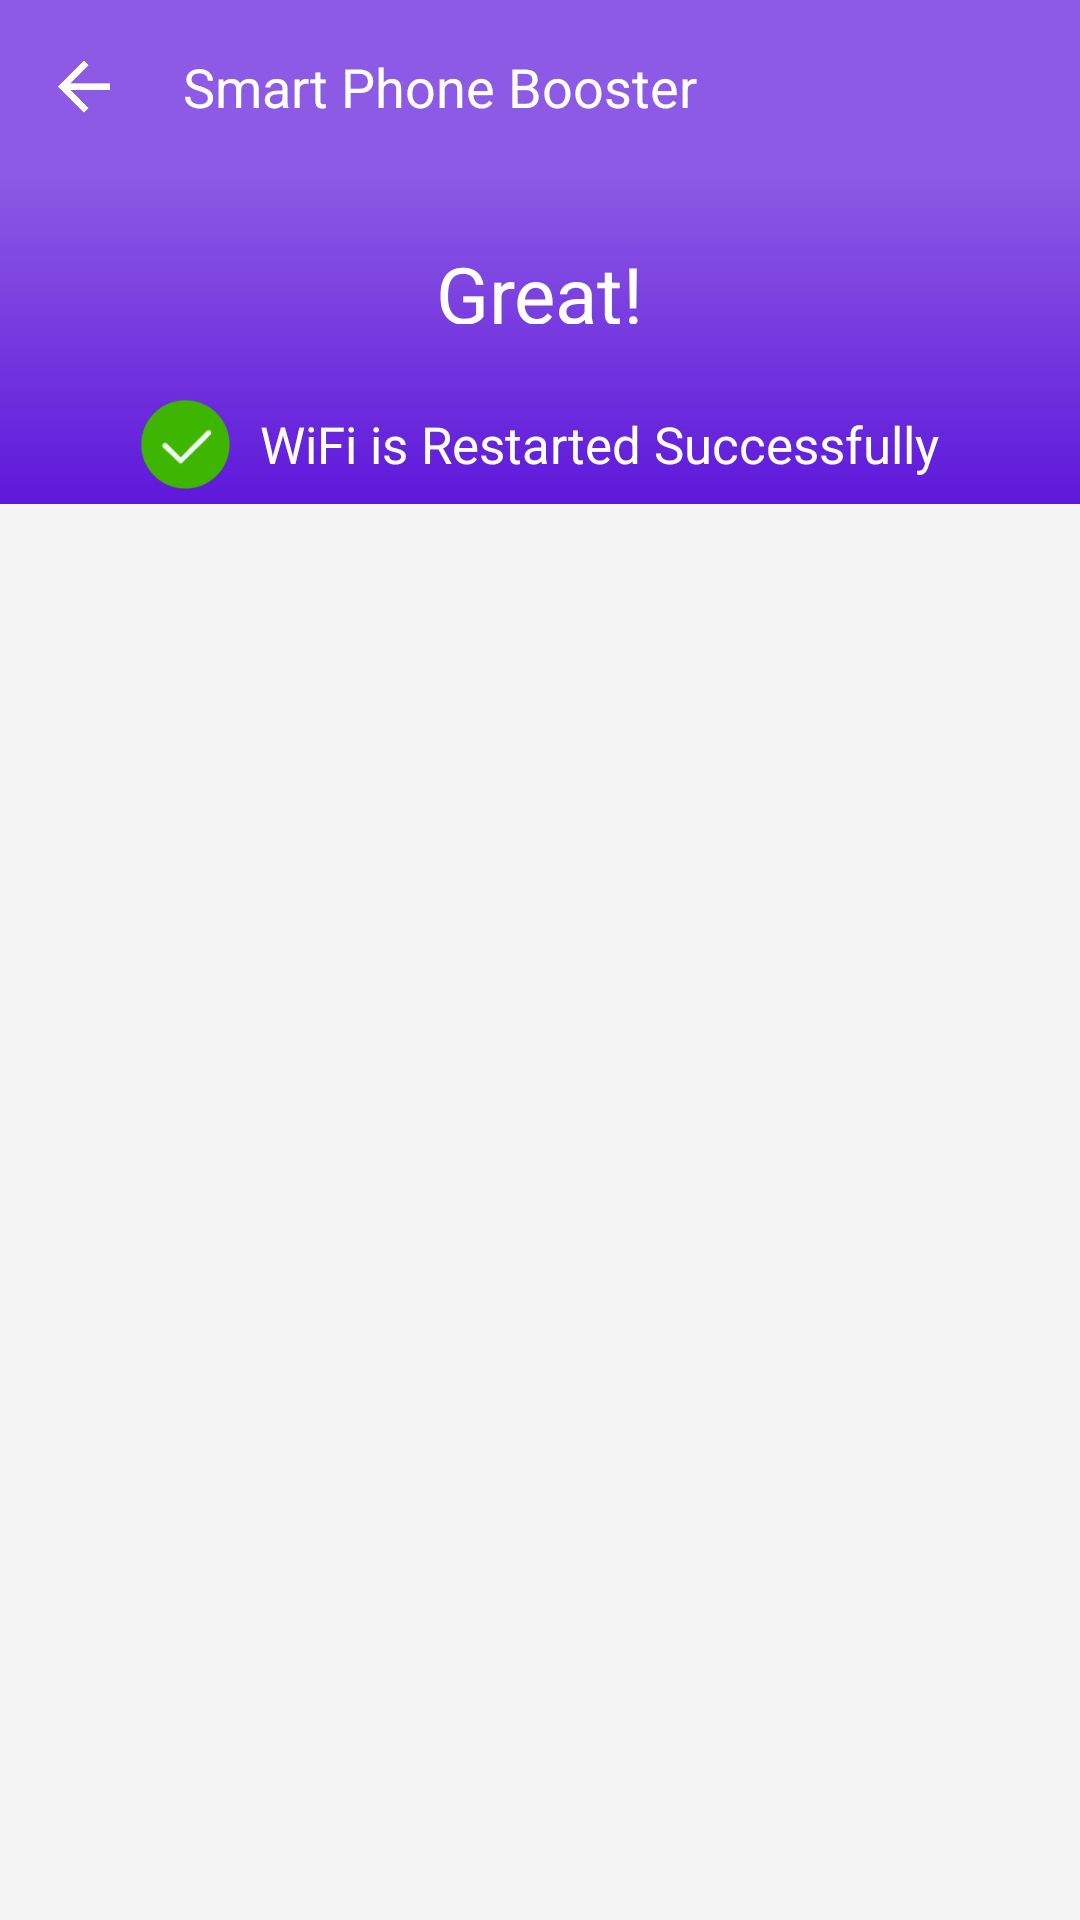

Icons on this 1080w x 1920h Android screen, each with the point to tap as point (x, y):
arrow: point (84, 86)
checked: point (185, 444)
